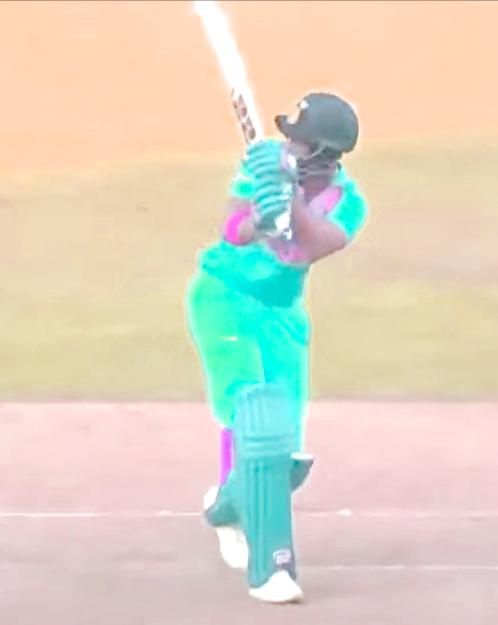batsman: (141, 4, 396, 625)
